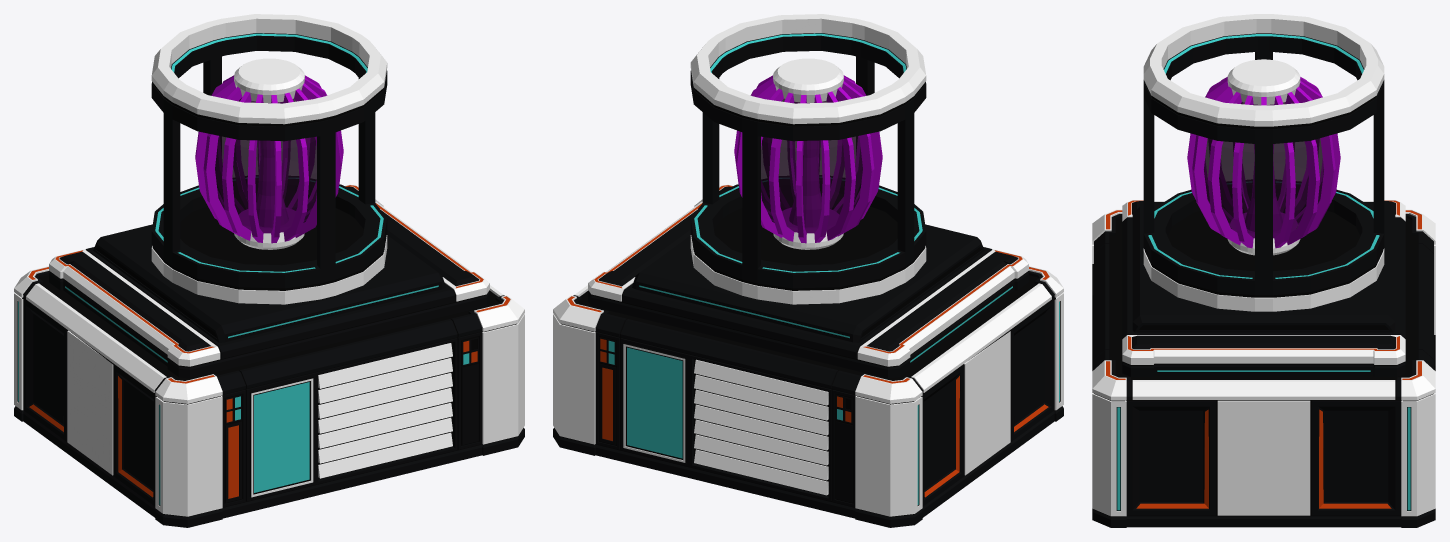
Rendered from SM_Fusion_T2.obj.
3 views of the same model, side by side, from view 1: azimuth 30°, elevation 25°; view 2: azimuth 150°, elevation 25°; view 3: azimuth 270°, elevation 25° (orthographic). The views are drawn at different scales.
Parts seen in each view (by area): view 1: SM_Fusion_T2; view 2: SM_Fusion_T2; view 3: SM_Fusion_T2.
Part boxes in pixels (x1,y1,x2,y2): SM_Fusion_T2: (14, 14, 524, 527); SM_Fusion_T2: (553, 14, 1063, 527); SM_Fusion_T2: (1092, 14, 1435, 527).
Bounding box in the file's own units: 2.5 × 2.41 × 2.
